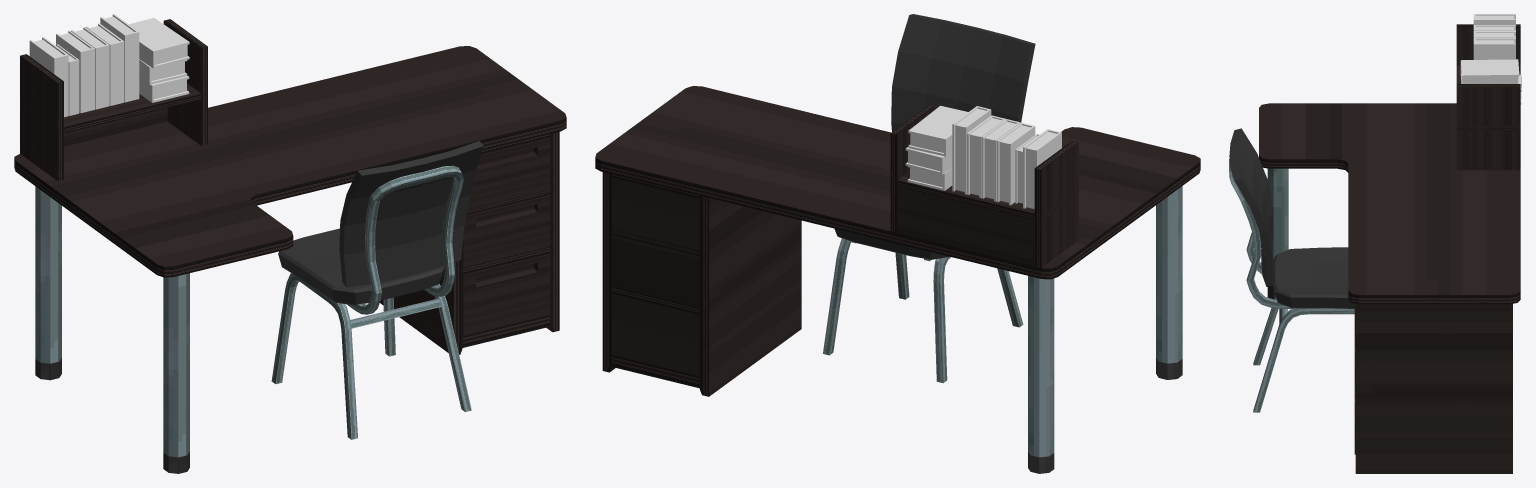
Rendered from 3ST_Chair_n_Table.fbx.
3 renders of one model, left to right at view 1: azimuth 30°, elevation 25°; view 2: azimuth 150°, elevation 25°; view 3: azimuth 270°, elevation 25°, orthographic. The views are drawn at different scales.
Parts seen in each view (by area): view 1: Table, Chair; view 2: Table, Chair; view 3: Table, Chair.
Boxes of the visible parts, x1,y1,x2,y2 form: Table: (14,14,566,473); Chair: (271,141,483,439); Table: (595,86,1200,473); Chair: (823,14,1035,383); Table: (1259,14,1521,473); Chair: (1229,128,1354,412).
Size of the model in its own units: 161 by 112 by 104.
Materials: 7 (1 with a texture image).
